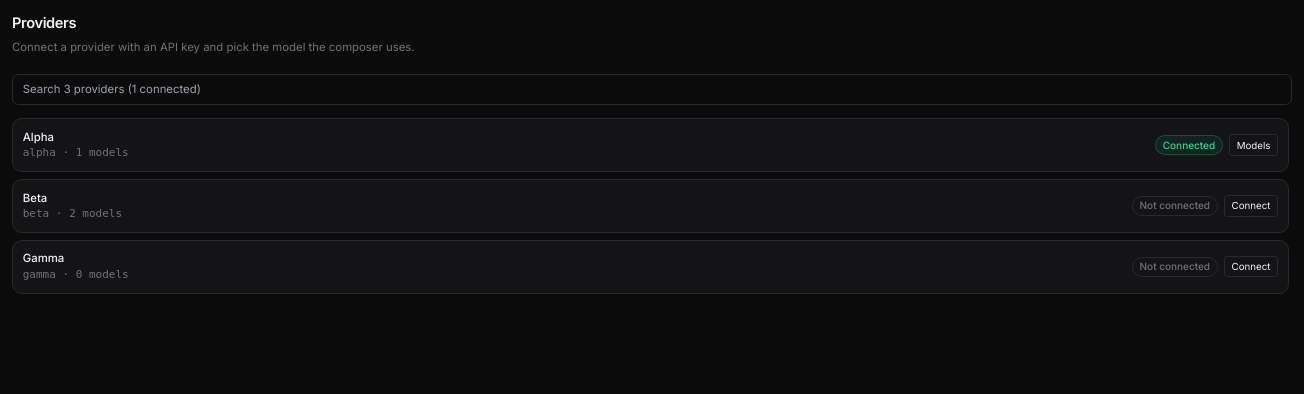
Test: ProvidersSection › "Use this model" stores the explicit pick for the session
Click the button with test id "provider-toggle" showing "Models" at (1254, 145), box [1229,134,1278,156]
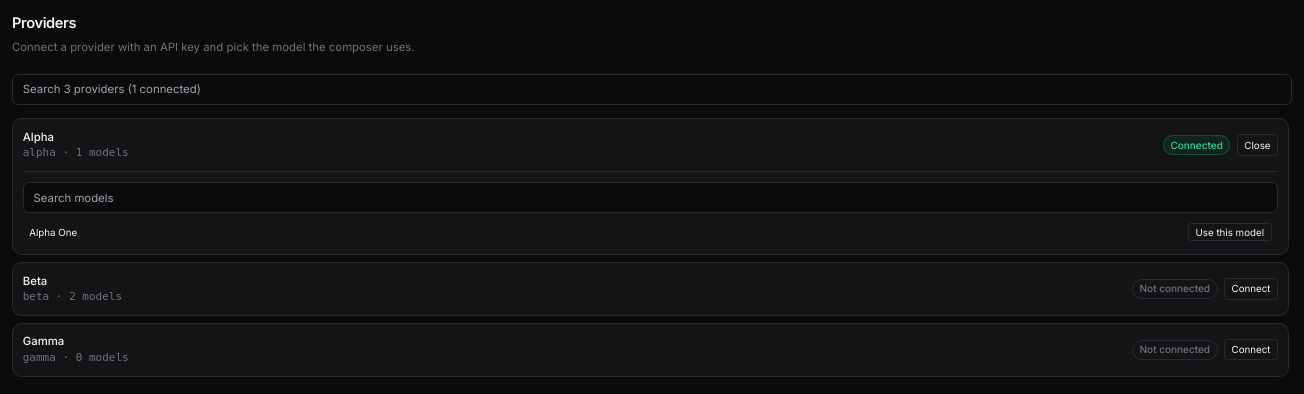
Expected: the number of buttons with test id "provider-use-model" is 1
Click the button with test id "provider-use-model" at (1230, 232), box [1188,223,1272,241]
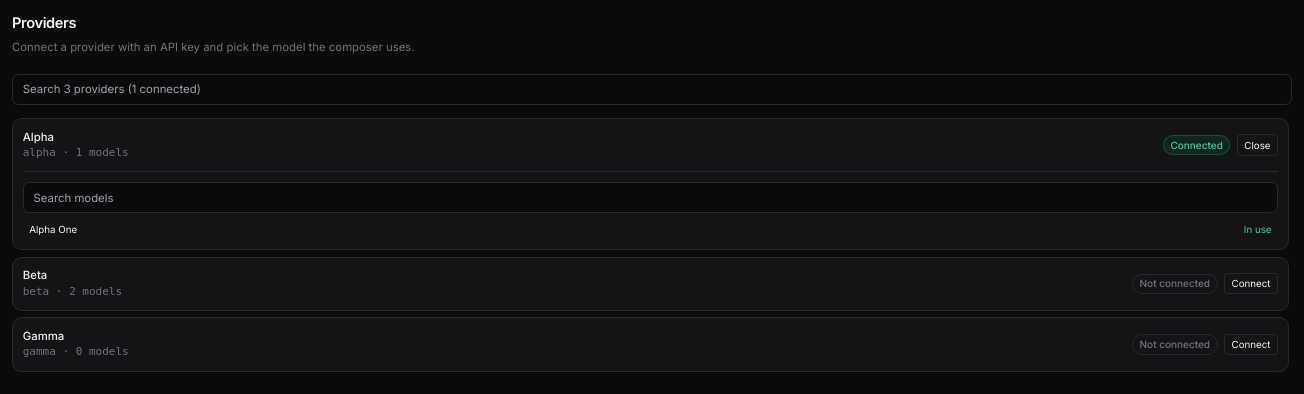
Expected: the text "In use" is shown, [1244,223,1272,236]
